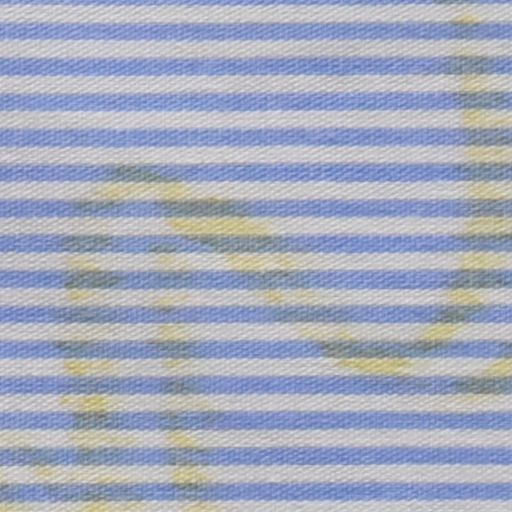defect: (69, 28, 512, 512)
